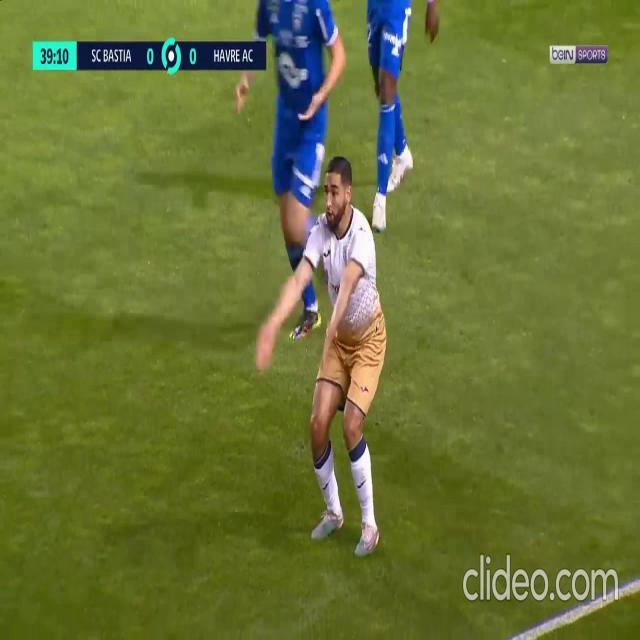goalkeeper: (426, 0, 441, 45)
player: (314, 441, 346, 540), (237, 67, 252, 113)
